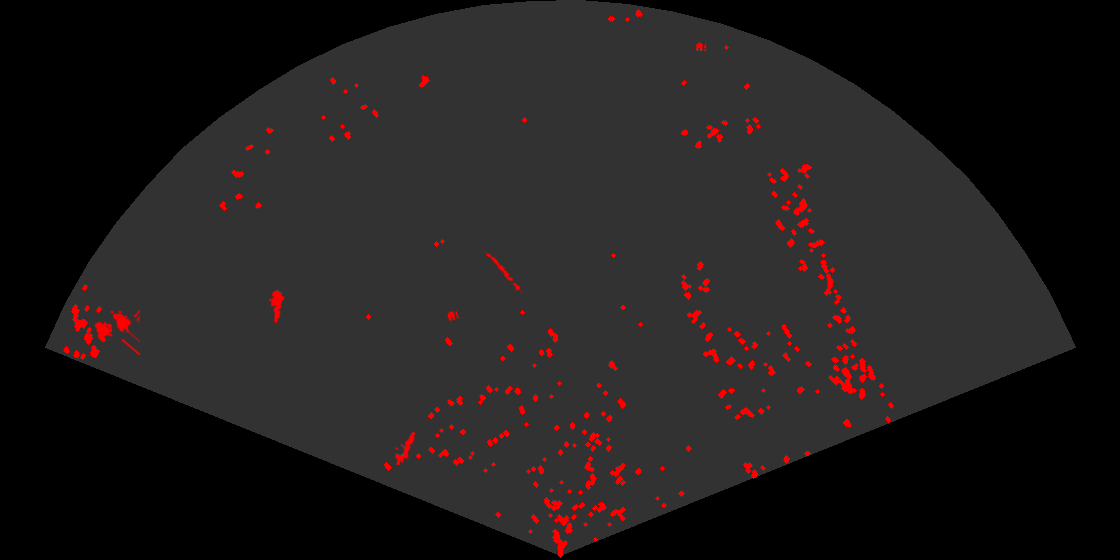ball: (446, 309, 461, 323), (694, 41, 708, 53)
cage: (93, 308, 140, 355)
chain: (483, 248, 525, 293)
frogman: (393, 429, 416, 465), (267, 288, 286, 324)
